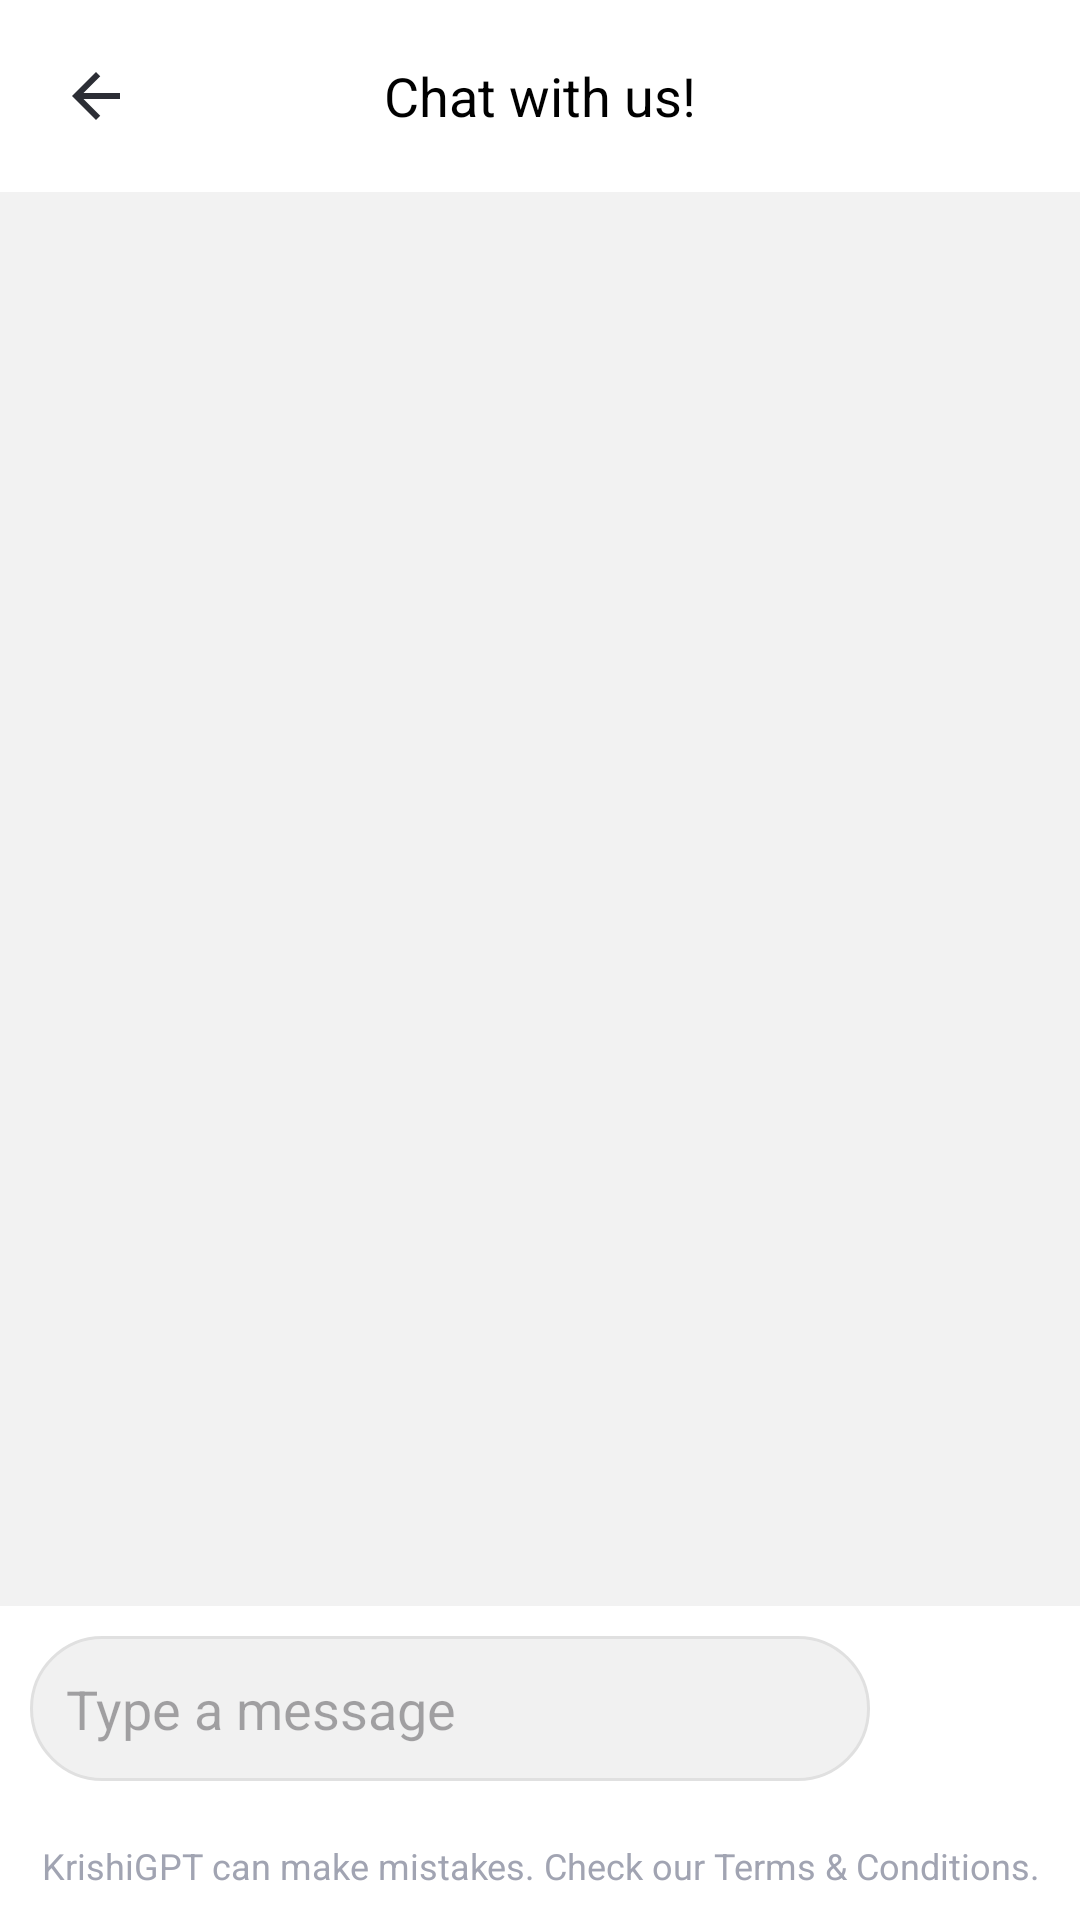

Where icons sit on this 1080x1920 app screen, as (x1, y1, x2, y2):
back: (72, 72, 120, 120)
